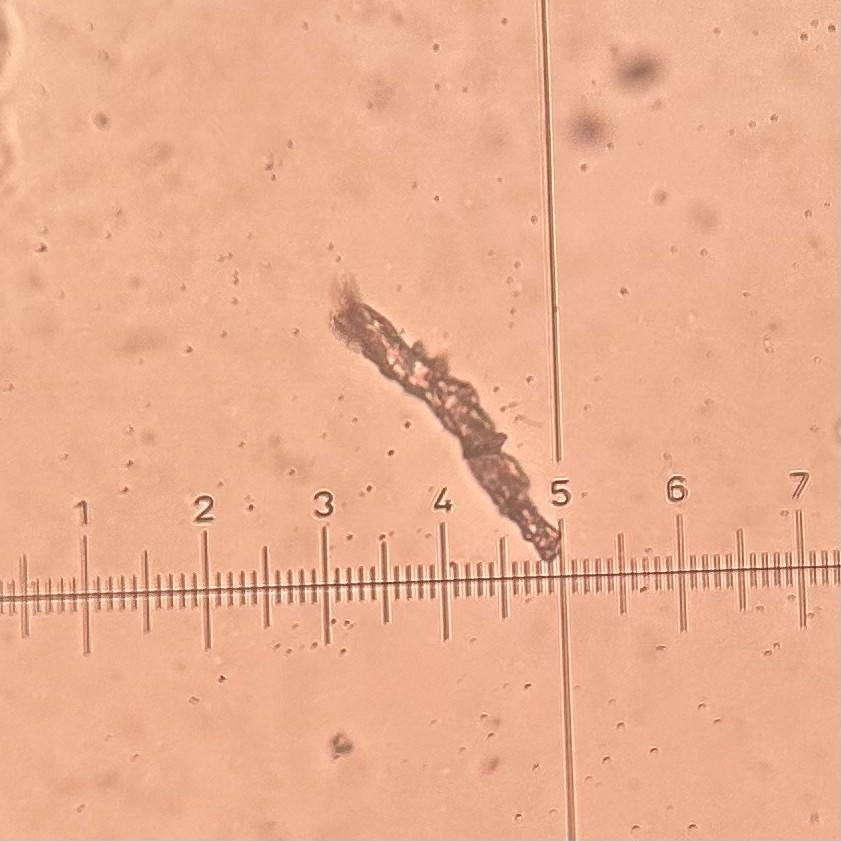microplastic: (326, 283, 566, 562), (572, 103, 612, 141), (619, 57, 662, 86), (325, 732, 356, 762)
